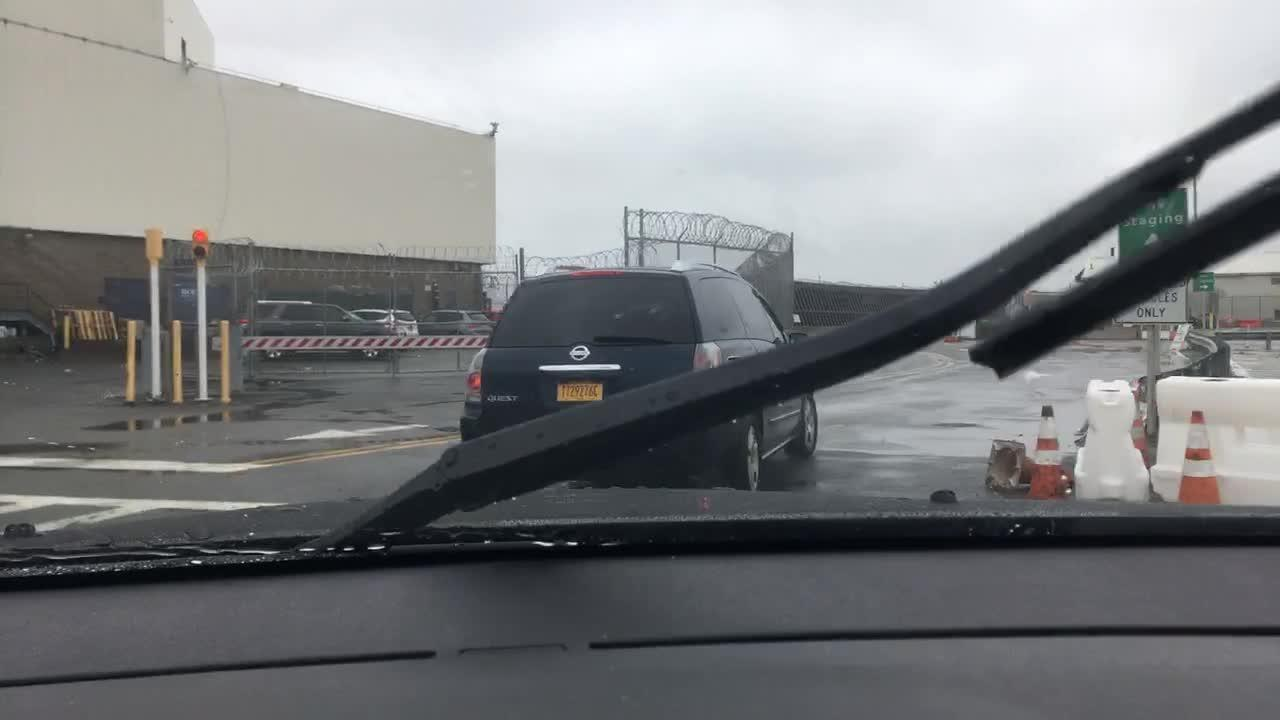Nissan: (561, 338, 595, 369)
